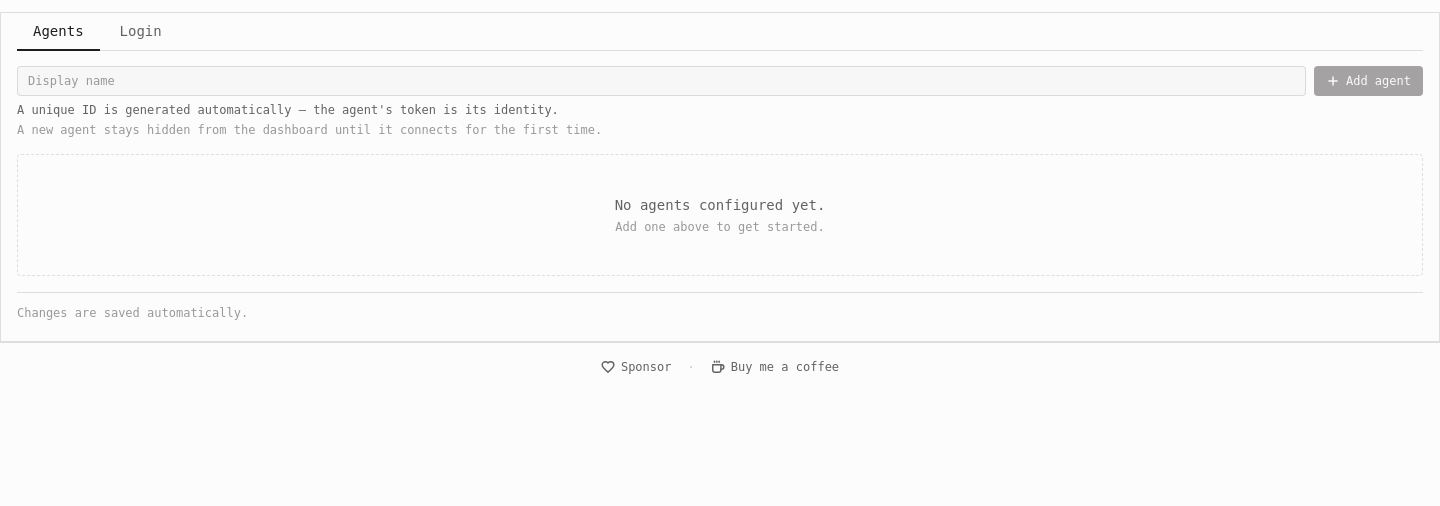
Test: AdminPanel auto-save › refetches from the server when a save fails, so the UI cannot diverge
The width and height of the screenshot is (1440, 506).
In the field with placeholder "Display name": (662, 81) left=17, top=66, right=1306, bottom=96, type "web-2"
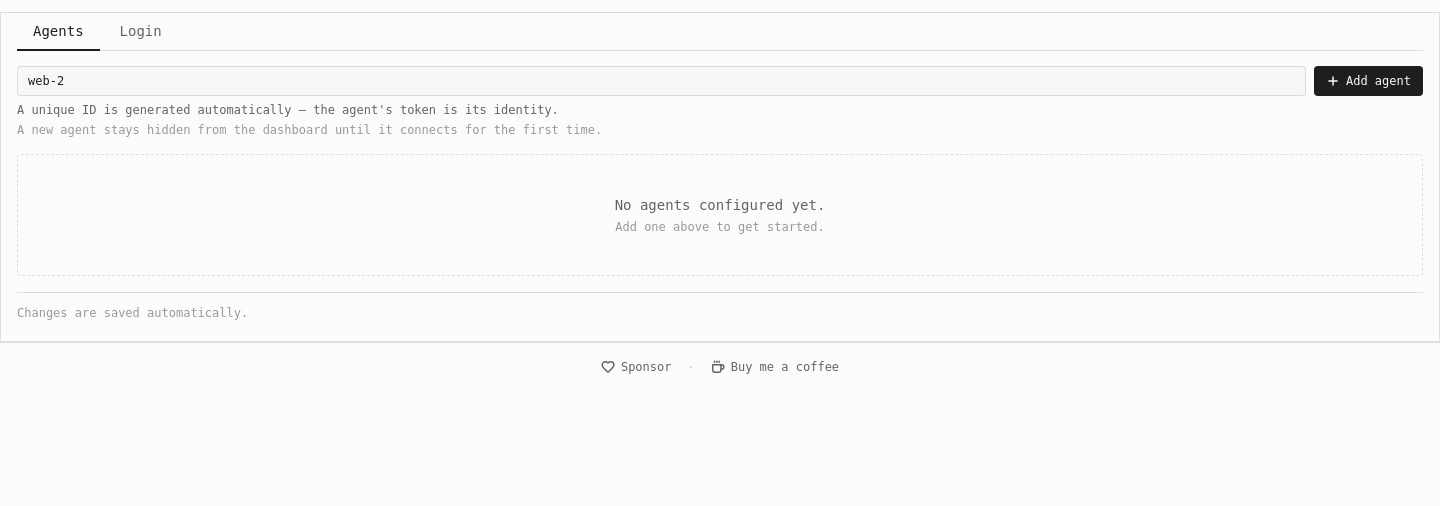
Click the button "Add agent": (1368, 81) left=1314, top=66, right=1423, bottom=96
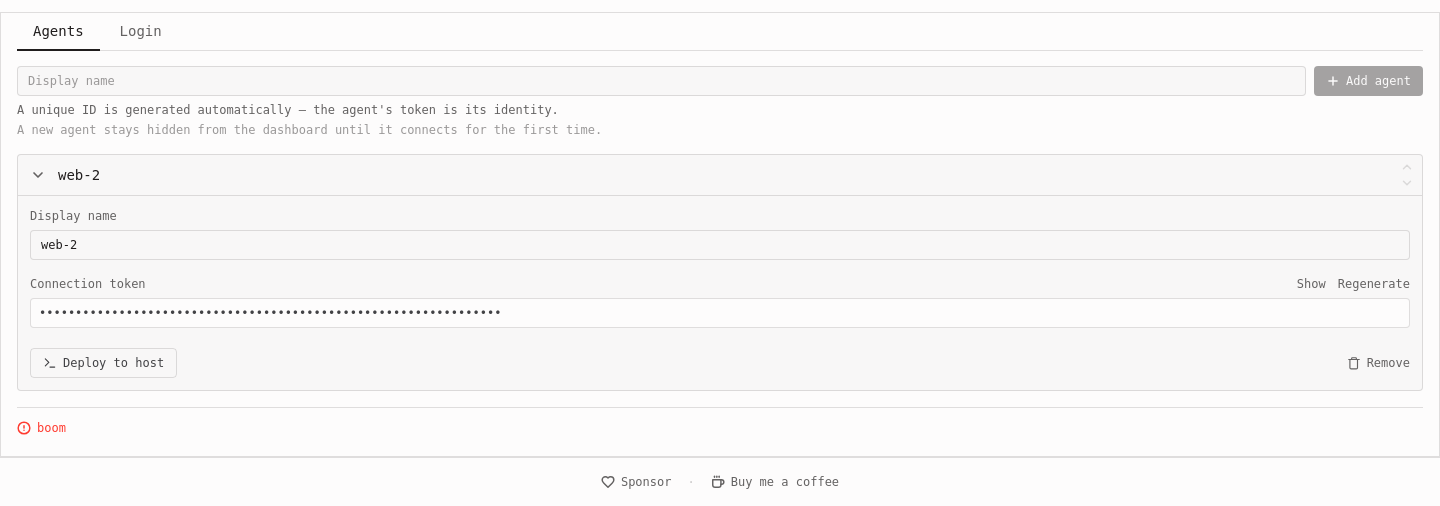
Expected: the text "boom" is shown, left=37, top=420, right=66, bottom=436
